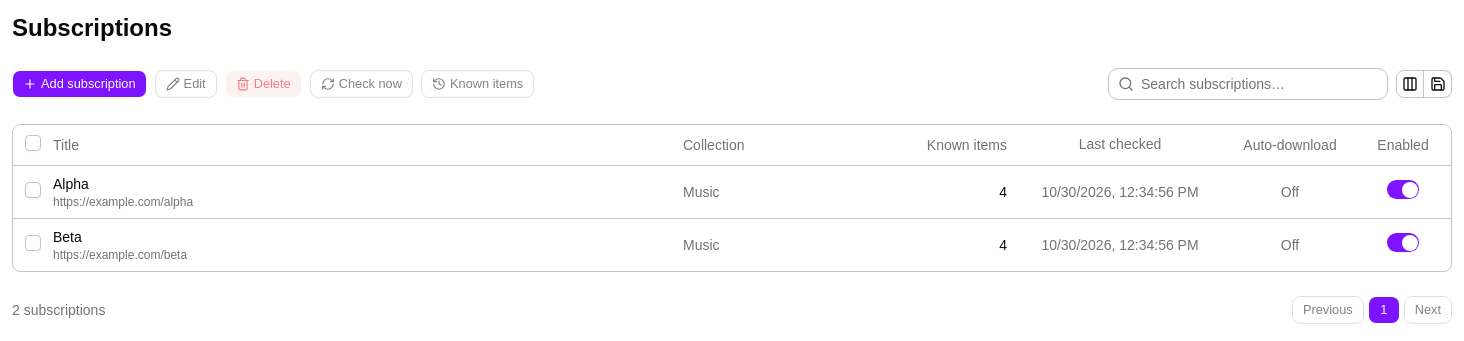
SubscriptionsPage table › selects with a plain click, appends the selected count to the footer, and clears on search
Expected: the text "Alpha" is shown, [53,176,89,192]
Step 1. Press the mouse on the text "Alpha" → {"x": 732, "y": 192}, box [13,165,1451,218]
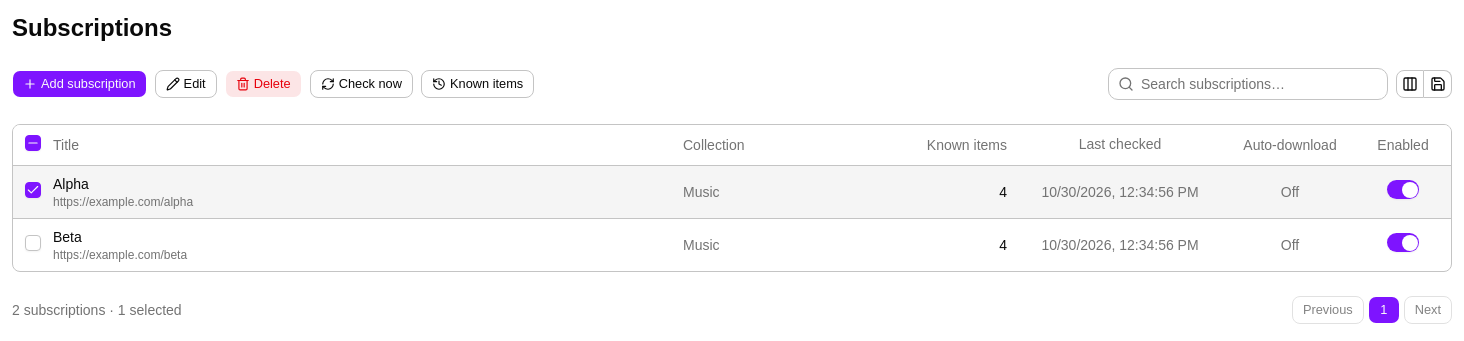
Result: the text "2 subscriptions · 1 selected" is shown at [12,300,182,320]
Step 2. Press the mouse on the text "Beta" → {"x": 120, "y": 254}, box [13,218,1451,270]
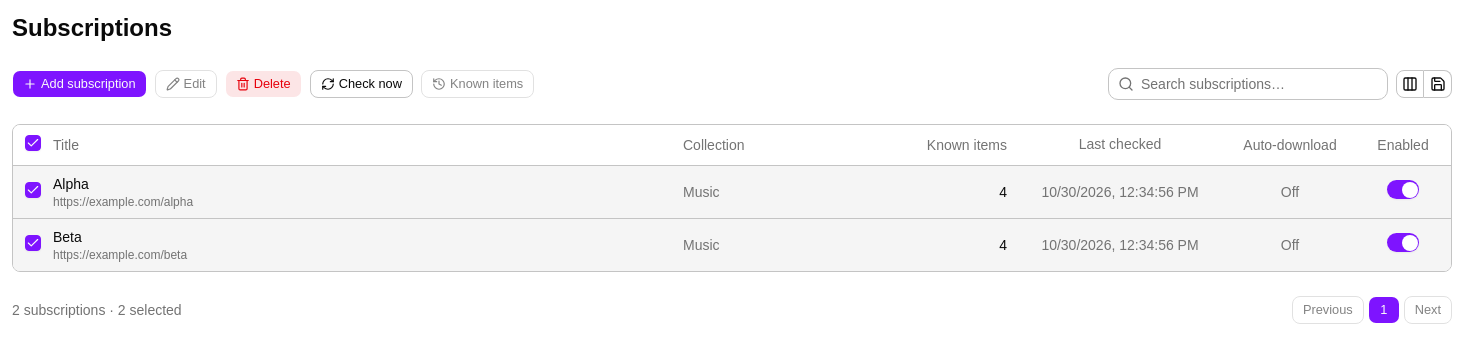
Result: the text "2 subscriptions · 2 selected" is shown at [12,300,182,320]
Step 3. Type "beta" into the field with placeholder "Search subscriptions…" → {"x": 1248, "y": 84}, box [1108,68,1388,100]
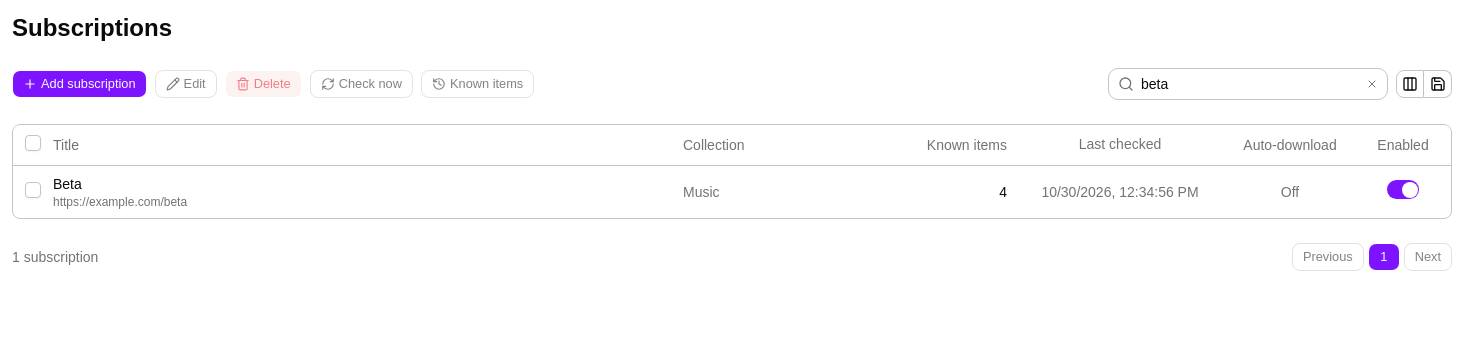
Result: the text "Alpha" is gone
